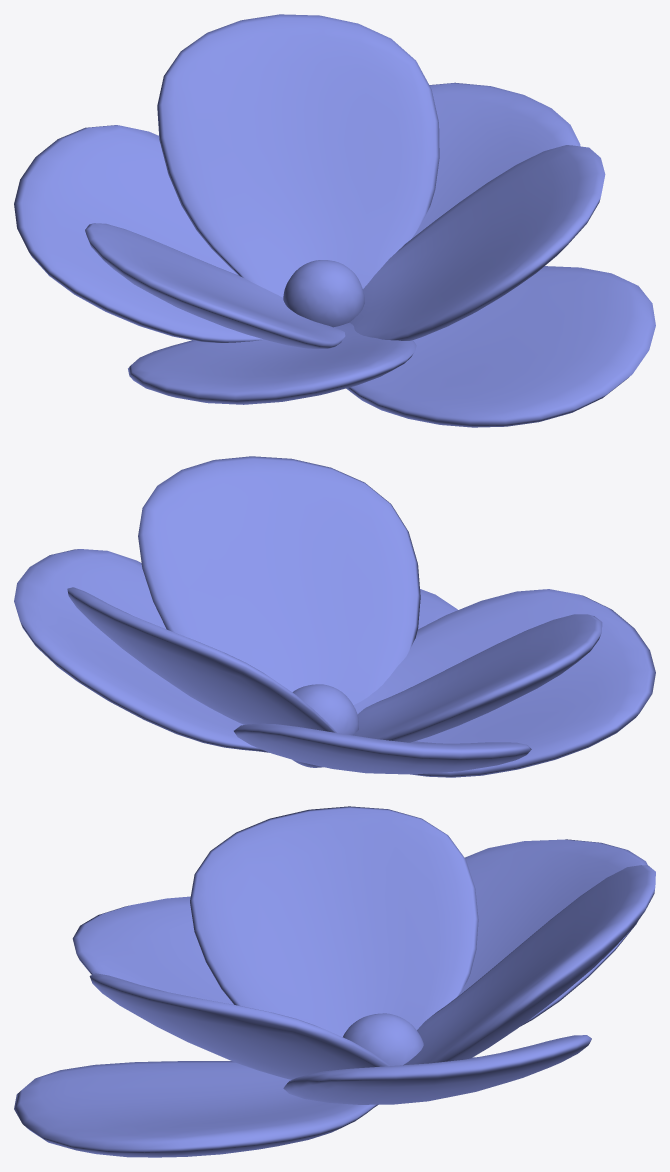
Rendered from fiorellino poly 7.fbx.
3 renders of one model, top to bottom at view 1: azimuth 30°, elevation 25°; view 2: azimuth 150°, elevation 25°; view 3: azimuth 270°, elevation 25°, orthographic. The views are drawn at different scales.
Visible parts, largest first — view 1: Cube.009; view 2: Cube.009; view 3: Cube.009.
Part boxes in pixels (box(x1,y1,x2,y2)): Cube.009: box(14, 14, 655, 427); Cube.009: box(14, 456, 655, 777); Cube.009: box(14, 806, 655, 1157).
Bounding box in the file's own units: 76.42 × 31.93 × 77.51.
